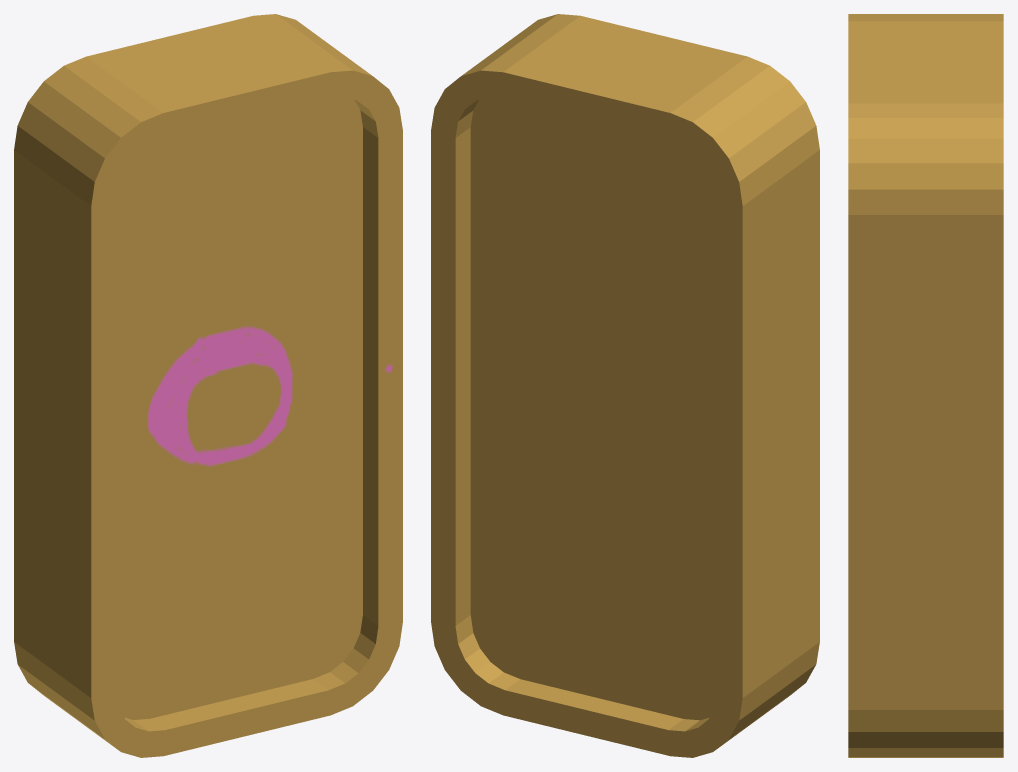
File: domino.glb
The picture shows the model from 3 angles, left to right: view 1: azimuth 30°, elevation 25°; view 2: azimuth 150°, elevation 25°; view 3: azimuth 270°, elevation 25°; orthographic projection.
Parts seen in each view (by area): view 1: Cube; view 2: Cube; view 3: Cube.
Part boxes in pixels (left/top/right/bottom): Cube: left=14, top=14, right=402, bottom=757; Cube: left=431, top=14, right=819, bottom=757; Cube: left=848, top=14, right=1003, bottom=757.
Size of the model in its own units: 0.5994 by 1.18 by 0.2572.
1 material, 1 textured.
